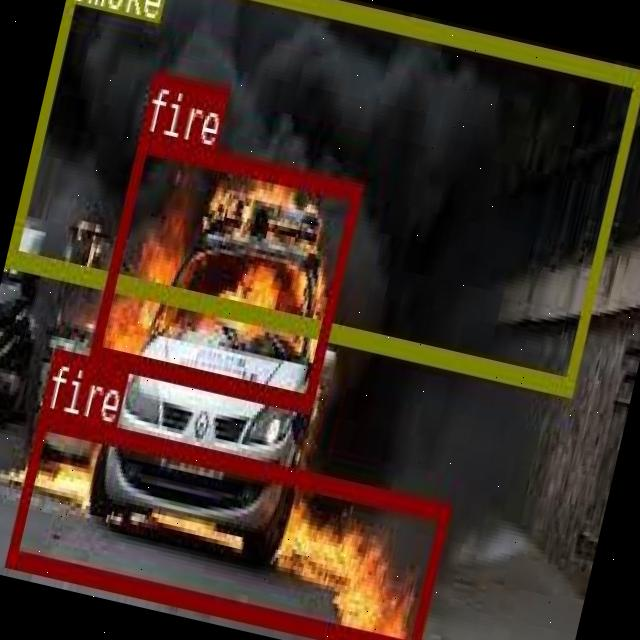fire: (3, 406, 450, 640), (88, 132, 360, 409)
smoke: (5, 0, 640, 392)
